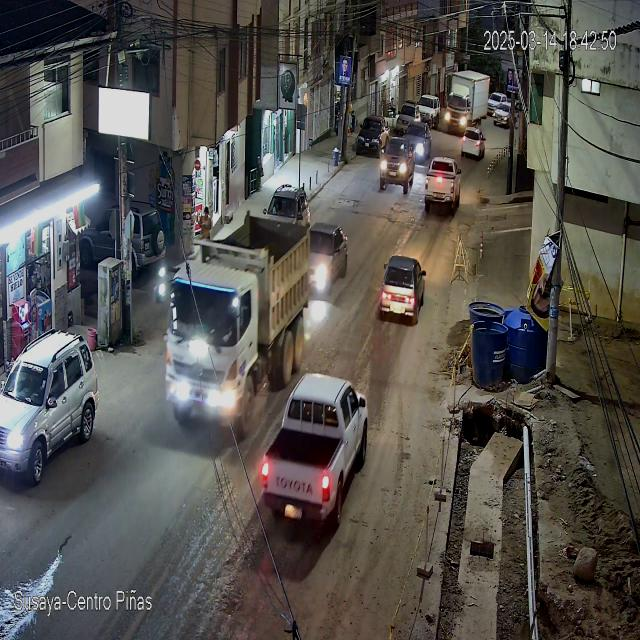CMT: (262, 374, 368, 532)
TRUCK: (164, 214, 310, 439)
